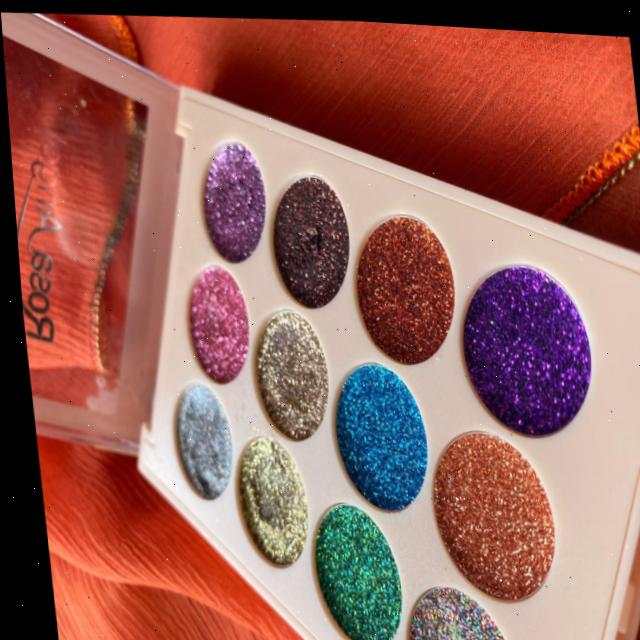eye shade: (249, 138, 630, 640), (134, 241, 440, 640), (323, 190, 516, 640), (127, 121, 324, 522)
